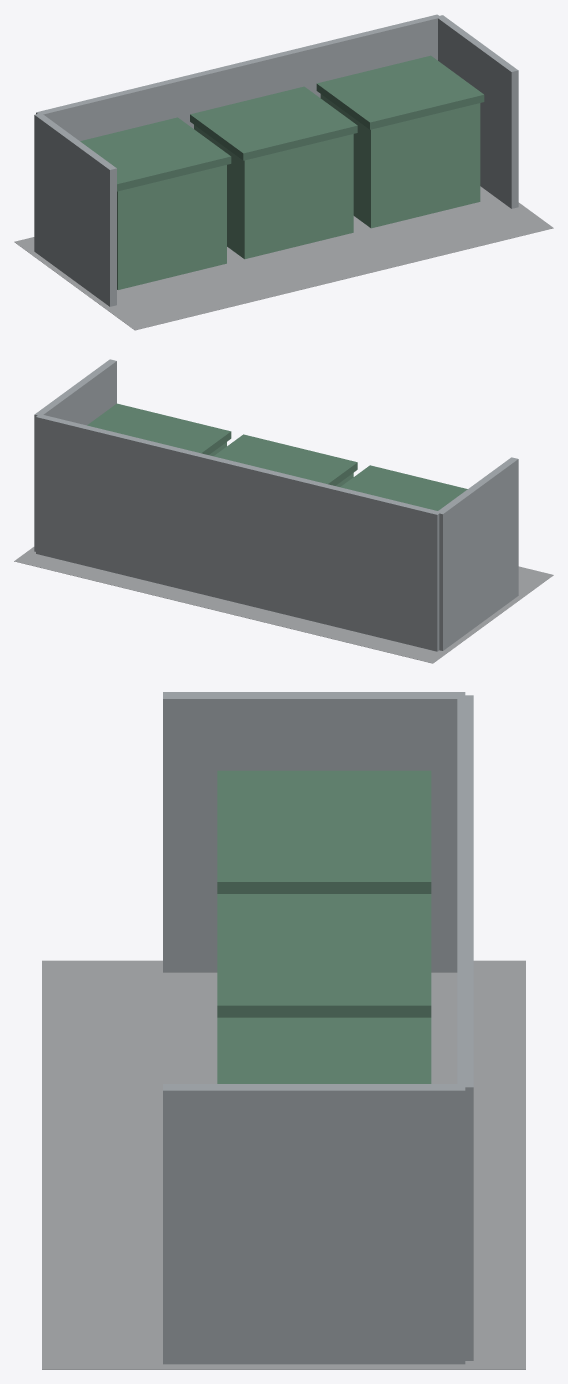
File: containers.glb
The picture shows the model from 3 angles, top to bottom: view 1: azimuth 30°, elevation 25°; view 2: azimuth 150°, elevation 25°; view 3: azimuth 270°, elevation 25°; orthographic projection. The views are drawn at different scales.
Parts seen in each view (by area): view 1: containers; view 2: containers; view 3: containers.
Boxes of the visible parts, x1=… form: containers: x1=14, y1=14, x2=553, y2=330; containers: x1=14, y1=359, x2=553, y2=663; containers: x1=42, y1=692, x2=525, y2=1369.
Bounding box in the file's own units: 4.8 × 1.5 × 2.4.
